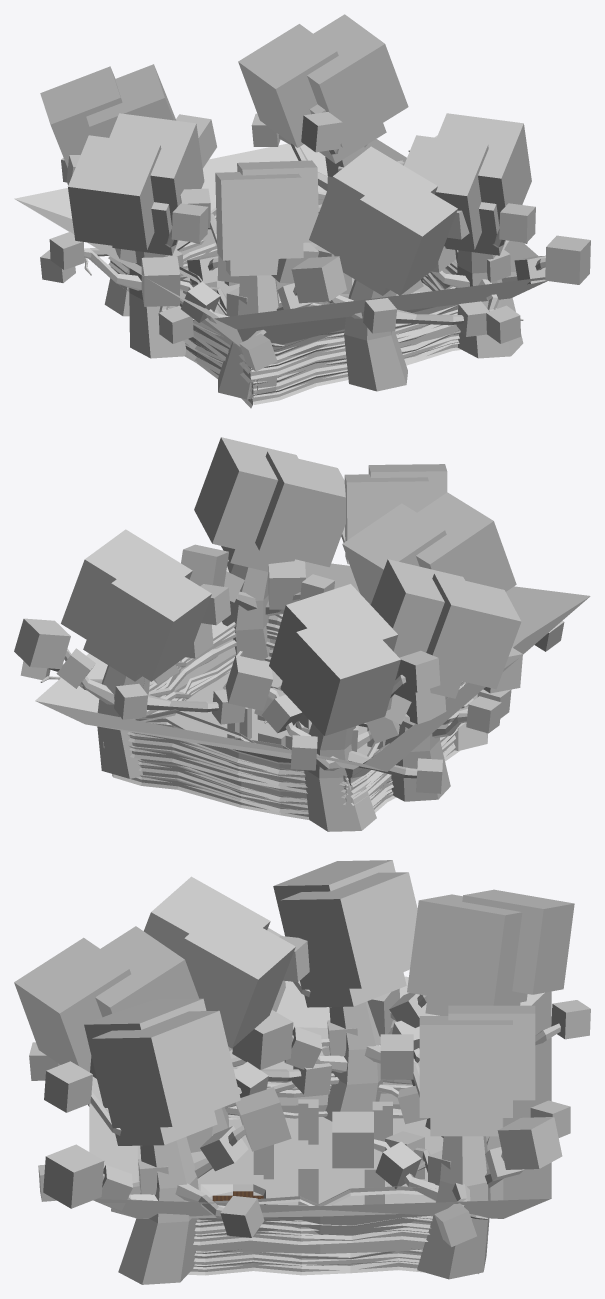
The picture shows the model from 3 angles, top to bottom: view 1: azimuth 30°, elevation 25°; view 2: azimuth 150°, elevation 25°; view 3: azimuth 270°, elevation 25°; orthographic projection. The views are drawn at different scales.
Visible parts, largest first — view 1: listva1, black_wood, listva2, black_wood2; view 2: listva1, black_wood, black_wood2, listva2, grass, stonebricksmooth; view 3: listva1, black_wood, listva2, black_wood2, grass, stonebricksmooth.
Boxes of the visible parts, <box> form: listva1: <box>40,14,590,371</box>; black_wood: <box>84,134,545,399</box>; listva2: <box>14,139,547,376</box>; black_wood2: <box>108,191,461,408</box>; listva1: <box>14,437,564,793</box>; black_wood: <box>40,527,487,831</box>; black_wood2: <box>103,614,473,820</box>; listva2: <box>35,561,590,795</box>; grass: <box>163,660,378,755</box>; stonebricksmooth: <box>223,682,385,749</box>; listva1: <box>14,860,590,1246</box>; black_wood: <box>88,981,560,1284</box>; listva2: <box>89,976,551,1253</box>; black_wood2: <box>188,1038,489,1275</box>; grass: <box>191,1117,443,1205</box>; stonebricksmooth: <box>253,1099,424,1205</box>.
Size of the model in its own units: 5751 by 2830 by 5669.
